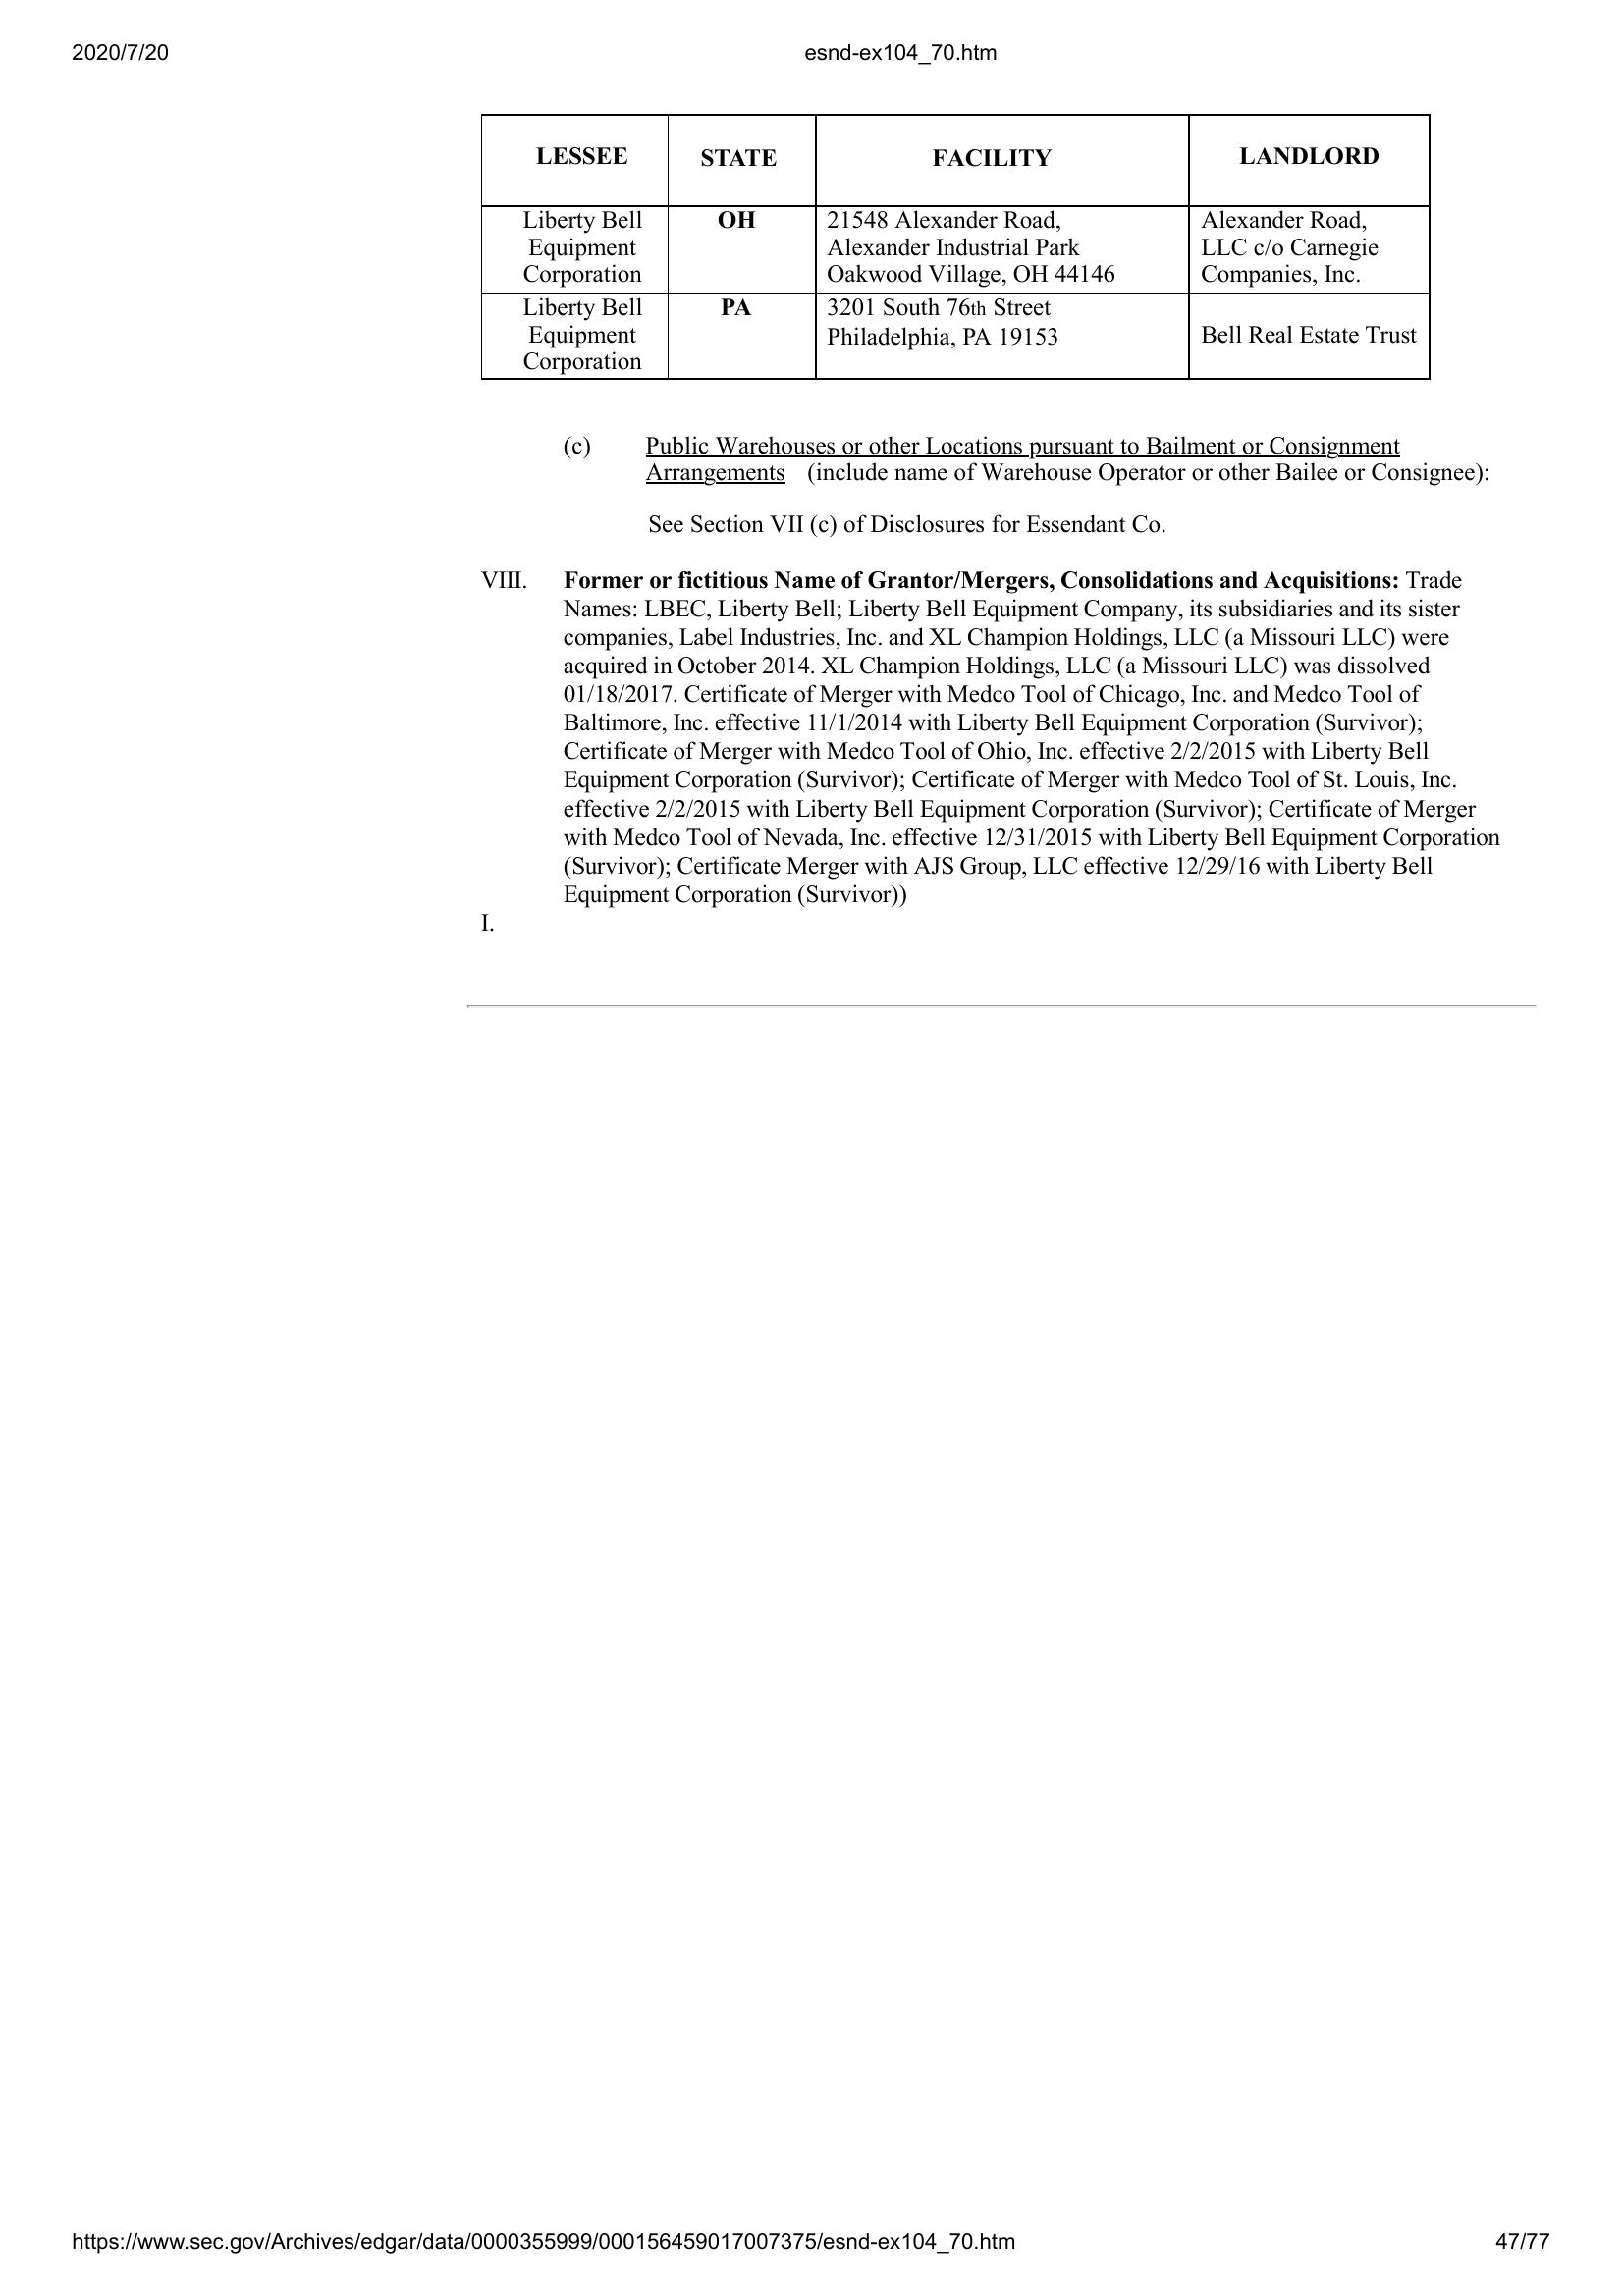table: (476, 109, 1439, 384)
